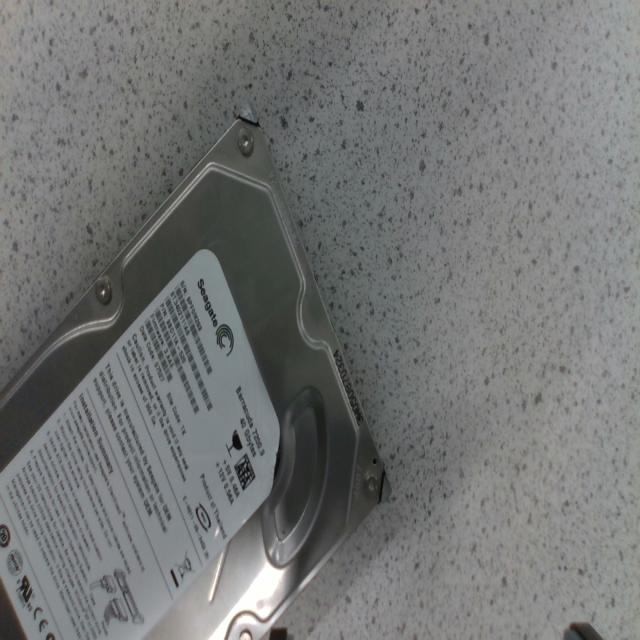label: (0, 250, 279, 639)
lid: (0, 113, 389, 639)
screw: (96, 276, 111, 305), (238, 129, 254, 156), (364, 474, 378, 494)
